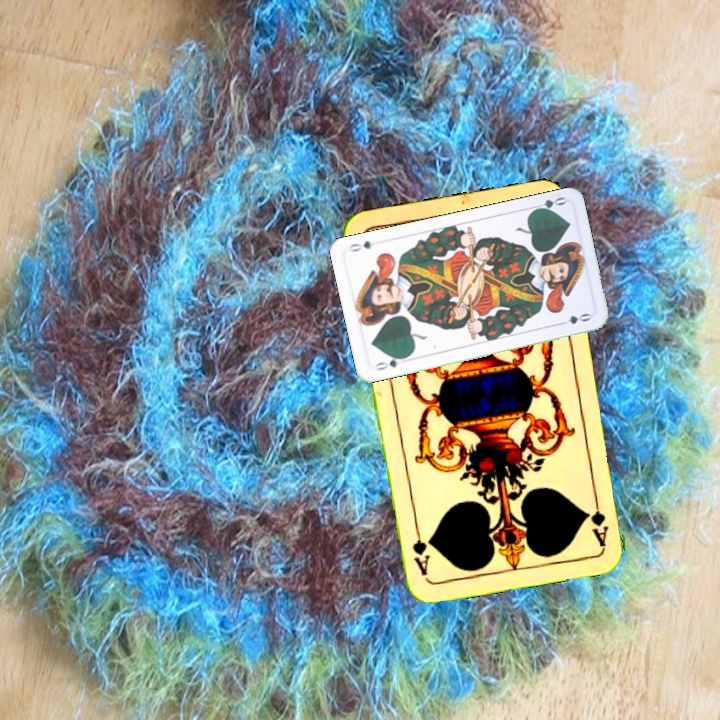GA: (587, 489, 611, 548)
GO: (527, 193, 568, 214), (371, 353, 409, 373)
